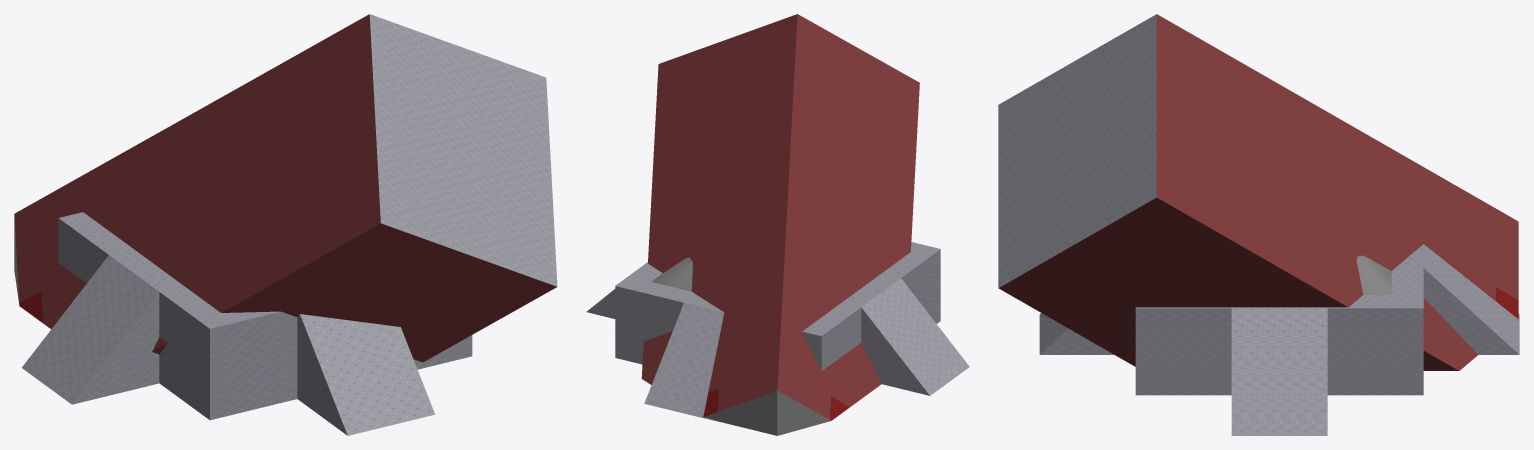
Rendered from Building_Destroied_Apartment.fbx.
3 views of the same model, side by side, from view 1: azimuth 30°, elevation 25°; view 2: azimuth 150°, elevation 25°; view 3: azimuth 270°, elevation 25° (orthographic). The views are drawn at different scales.
Visible parts, largest first — view 1: Building_Apartment001, Building_Base001; view 2: Building_Apartment001, Building_Base001, Pile_Building001, Pile001; view 3: Building_Apartment001, Building_Base001, Pile001.
Part boxes in pixels (x1,y1,x2,y2): Building_Apartment001: (14, 14, 557, 362); Building_Base001: (21, 212, 472, 435); Building_Apartment001: (641, 14, 919, 420); Building_Base001: (586, 242, 969, 420); Pile_Building001: (704, 390, 830, 435); Pile001: (651, 257, 692, 291); Building_Apartment001: (998, 14, 1518, 370); Building_Base001: (1039, 244, 1519, 435); Pile001: (1356, 255, 1391, 294).
Size of the model in its own units: 3000 by 2338 by 3258.
